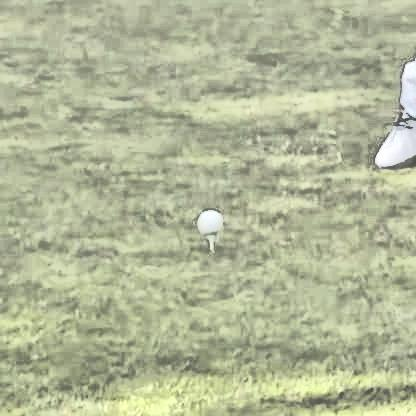golfball: (195, 211, 219, 233)
